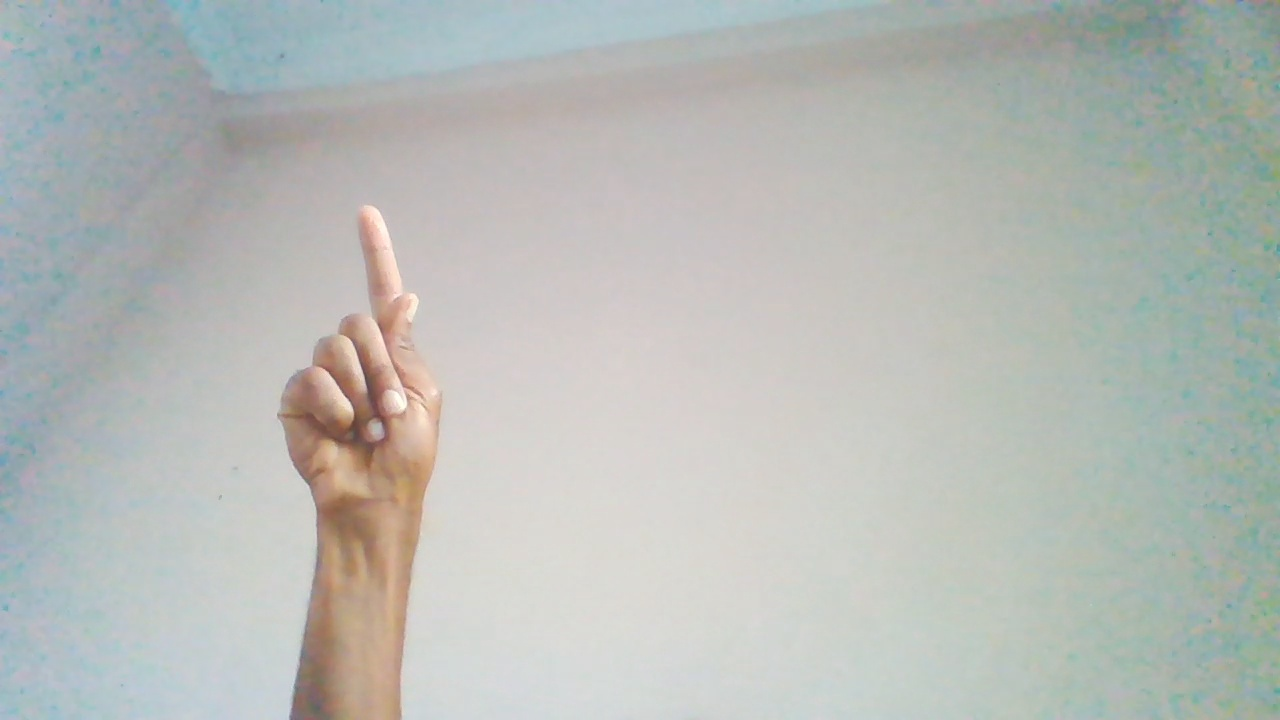ne: (276, 206, 451, 605)
